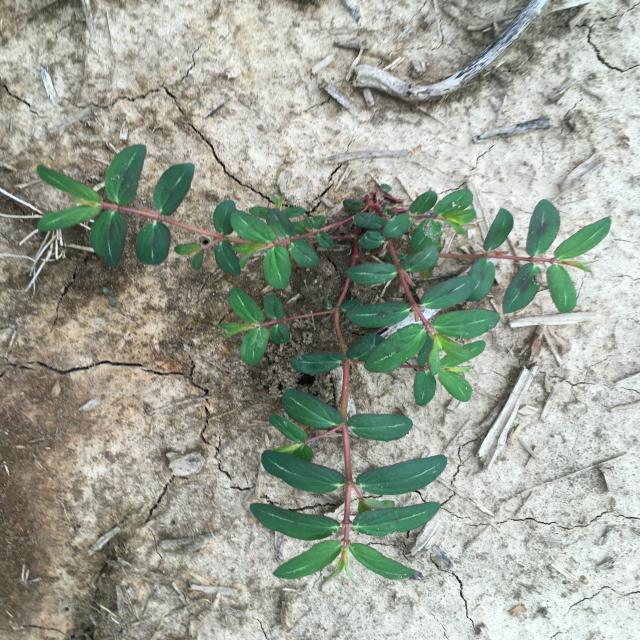SpottedSpurge: (37, 145, 611, 581)
